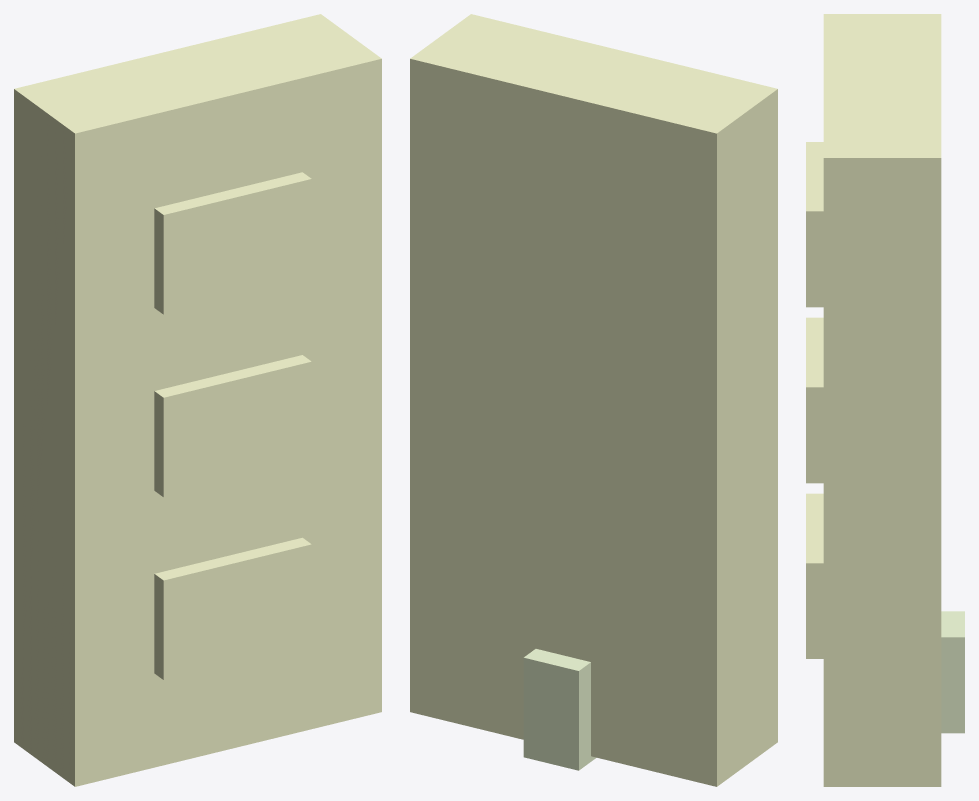
File: signal_lane_control_overhead_3_aspect.glb
3 renders of one model, left to right at view 1: azimuth 30°, elevation 25°; view 2: azimuth 150°, elevation 25°; view 3: azimuth 270°, elevation 25°, orthographic. The views are drawn at different scales.
Visible parts, largest first — view 1: housing, display_red_x, display_yellow_arrow, display_green_arrow; view 2: housing, bracket; view 3: housing, display_yellow_arrow, display_red_x, display_green_arrow, bracket.
Boxes of the visible parts, box(x1,y1,x2,y2) form: housing: box(14, 14, 381, 786); display_red_x: box(154, 172, 311, 314); display_yellow_arrow: box(154, 355, 311, 497); display_green_arrow: box(154, 537, 311, 679); housing: box(410, 14, 777, 786); bracket: box(523, 649, 596, 770); housing: box(823, 14, 941, 786); display_yellow_arrow: box(806, 317, 823, 483); display_red_x: box(806, 142, 823, 307); display_green_arrow: box(806, 493, 823, 658); bracket: box(941, 611, 964, 733).
Bounding box in the file's own units: 0.58 × 1.19 × 0.27.
